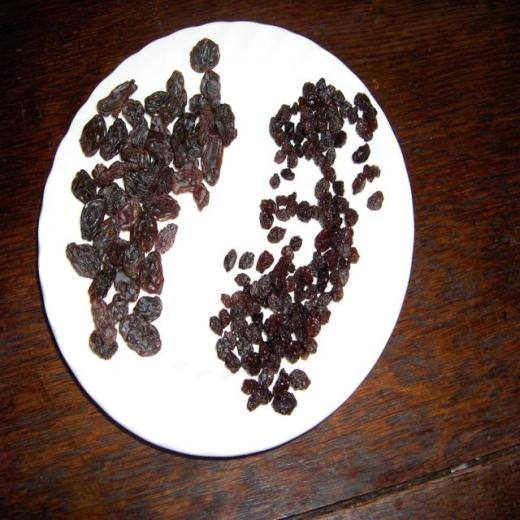Orange: (208, 77, 382, 416), (64, 37, 236, 361)
